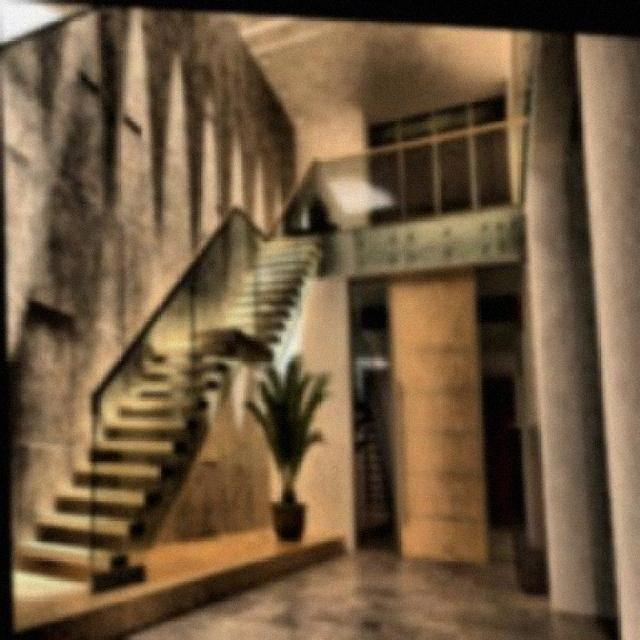stair: (6, 324, 239, 606)
